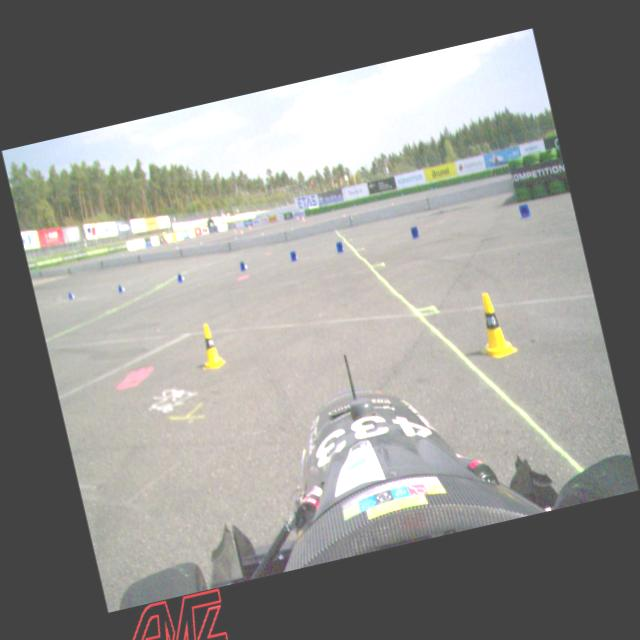blue_cone: (288, 249, 298, 262), (116, 282, 126, 294), (176, 272, 186, 283), (238, 260, 248, 271), (67, 290, 76, 300)
yellow_cone: (468, 287, 518, 361), (193, 320, 226, 370)
